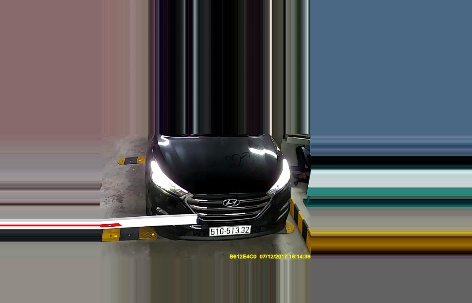plate: (205, 222, 250, 237)
